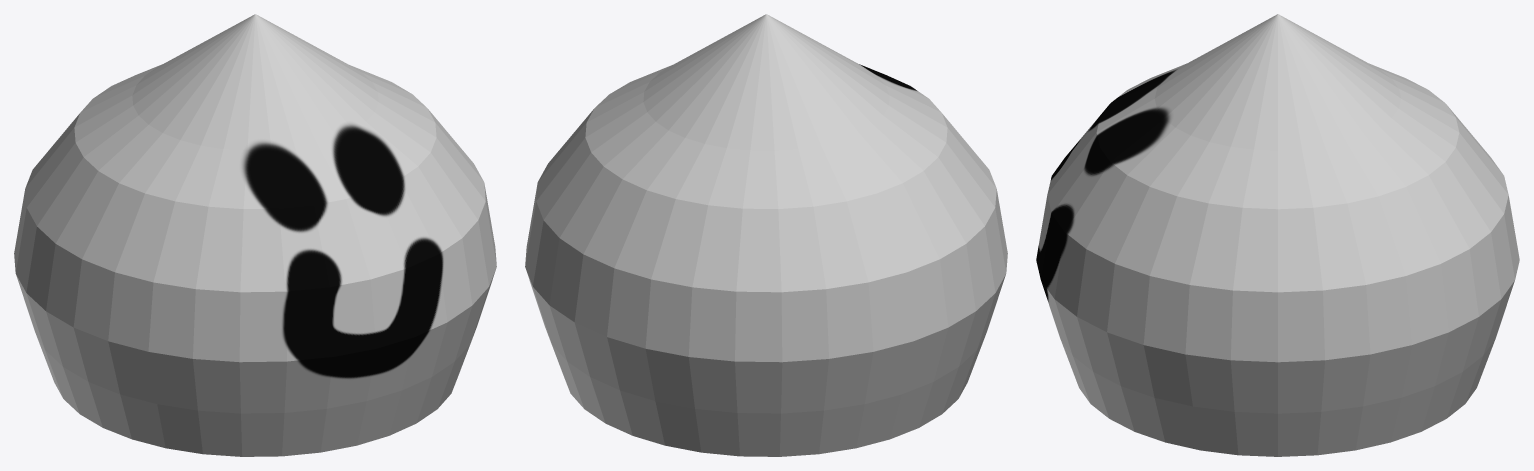
Rendered from tent.glb.
3 views of the same model, side by side, from view 1: azimuth 30°, elevation 25°; view 2: azimuth 150°, elevation 25°; view 3: azimuth 270°, elevation 25° (orthographic).
Visible parts, largest first — view 1: Cone; view 2: Cone; view 3: Cone.
Part boxes in pixels (x1,y1,x2,y2): Cone: (14, 14, 496, 456); Cone: (525, 14, 1007, 456); Cone: (1036, 14, 1519, 456).
Size of the model in its own units: 2.45 by 2 by 2.45.
Materials: 1 (1 with a texture image).
